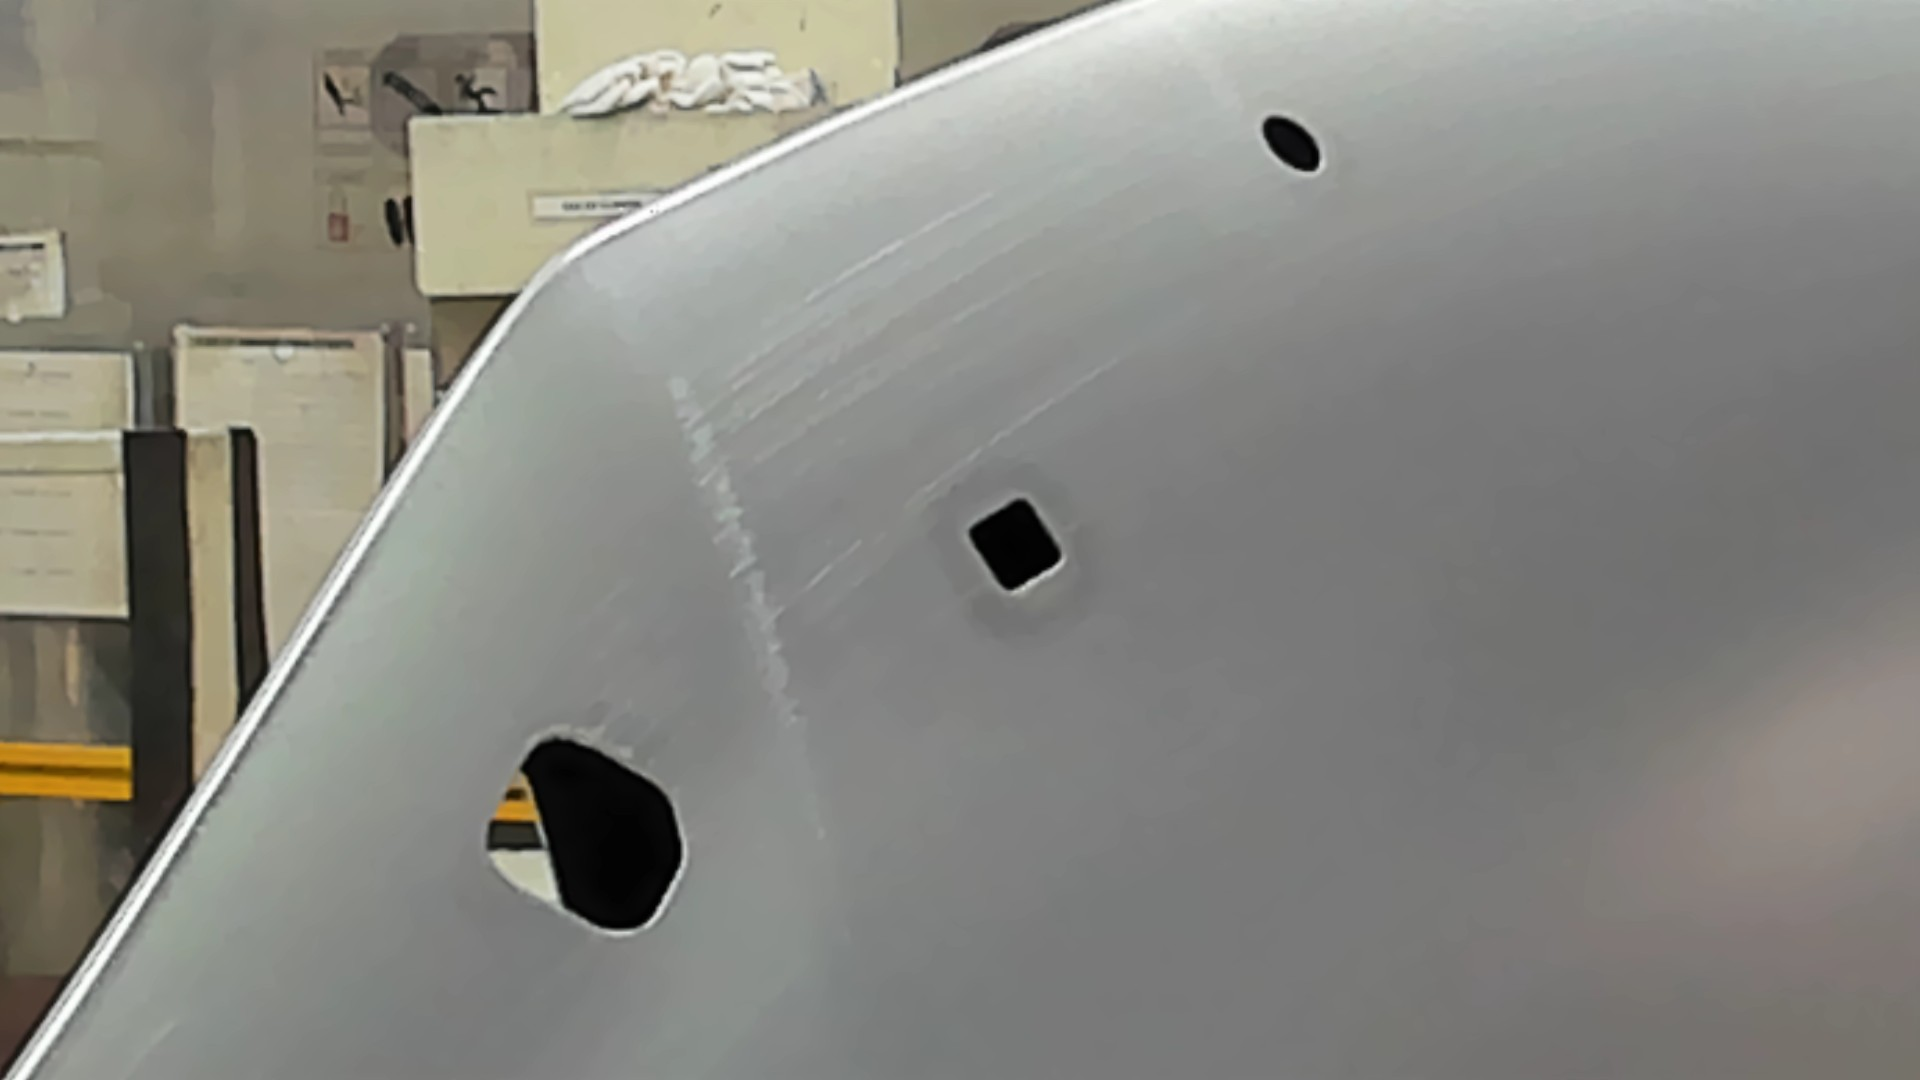capo: (1069, 182, 1920, 1080)
chico: (1259, 109, 1325, 179)
grande: (475, 727, 694, 945)
mediano: (963, 491, 1068, 603)
